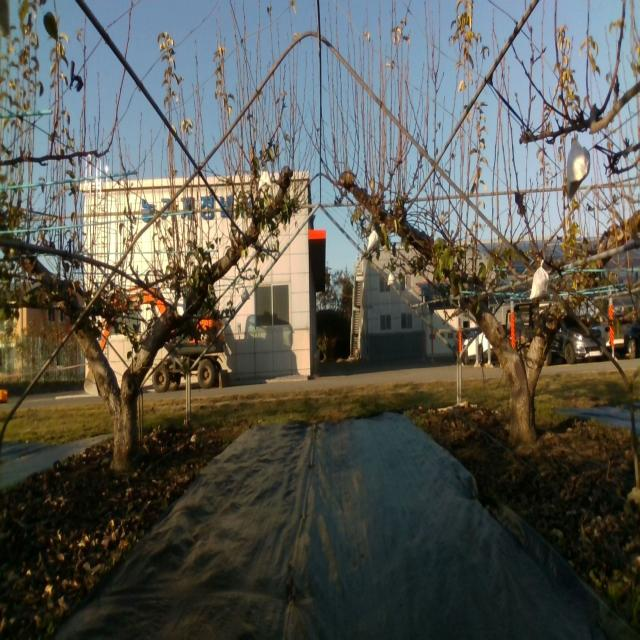pearbags: (567, 140, 591, 199), (530, 263, 550, 300), (259, 164, 271, 188)
